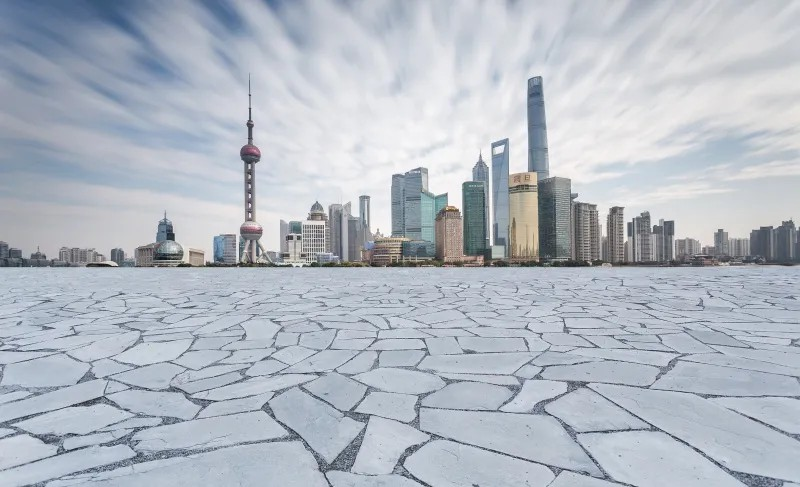Oriental: (240, 74, 273, 264)
